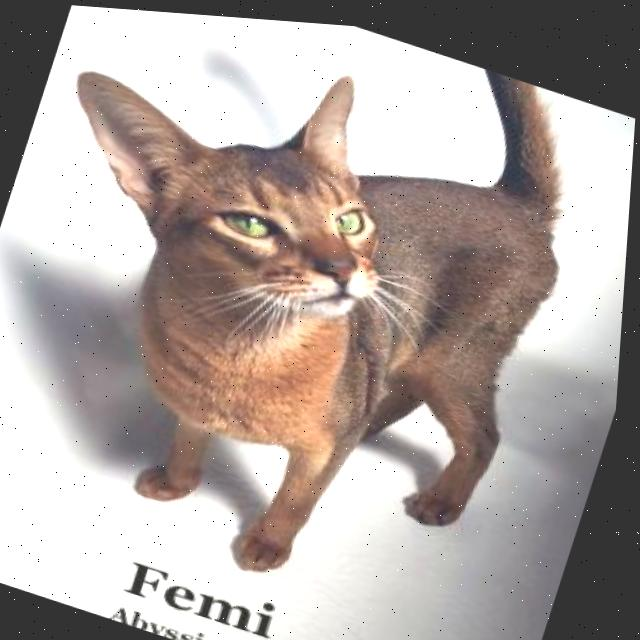Abyssinian: (0, 0, 624, 634)
